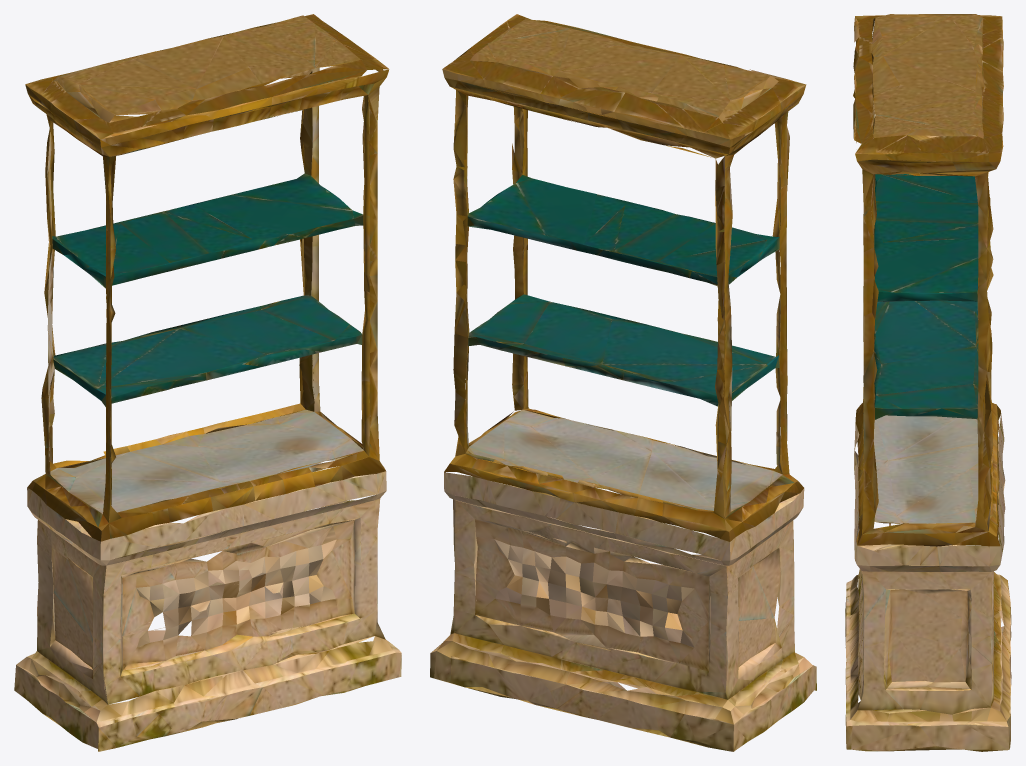
Rendered from vitrina.glb.
3 renders of one model, left to right at view 1: azimuth 30°, elevation 25°; view 2: azimuth 150°, elevation 25°; view 3: azimuth 270°, elevation 25°, orthographic. The views are drawn at different scales.
Visible parts, largest first — view 1: mesh_0; view 2: mesh_0; view 3: mesh_0.
Part boxes in pixels (left/top/right/bottom): mesh_0: left=14, top=14, right=401, bottom=751; mesh_0: left=430, top=14, right=816, bottom=751; mesh_0: left=845, top=14, right=1011, bottom=751.
Size of the model in its own units: 0.9782 by 1.9 by 0.4714.
1 material, 1 textured.
